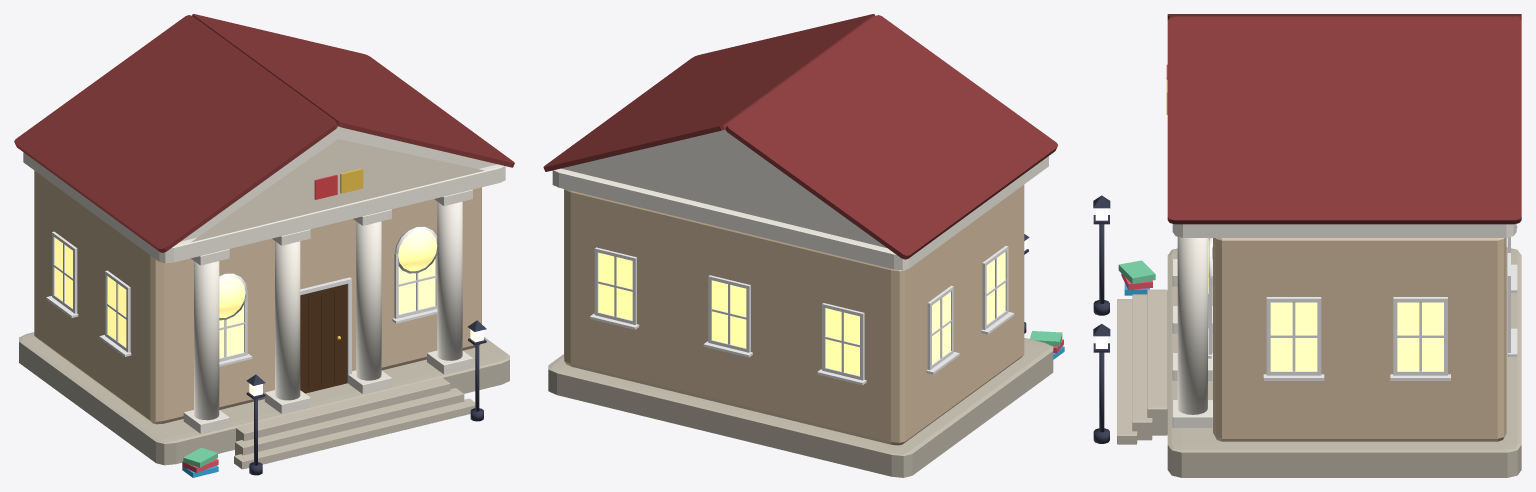
Rendered from knihovna.glb.
The picture shows the model from 3 angles, left to right: view 1: azimuth 30°, elevation 25°; view 2: azimuth 150°, elevation 25°; view 3: azimuth 270°, elevation 25°; orthographic projection. The views are drawn at different scales.
Parts seen in each view (by area): view 1: knihovna; view 2: knihovna; view 3: knihovna.
Part boxes in pixels (box(x1,y1,x2,y2)): knihovna: box(14, 14, 514, 477); knihovna: box(543, 14, 1064, 477); knihovna: box(1093, 14, 1521, 477).
Bounding box in the file's own units: 9.65 × 7.85 × 8.47.
Materials: 3 (3 with a texture image).
